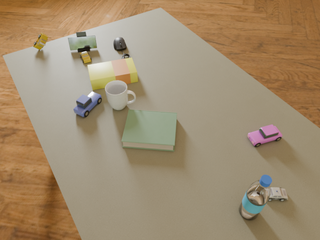book: (122, 110, 177, 151)
bottle: (239, 175, 272, 220)
box: (88, 58, 138, 90)
cup: (105, 80, 136, 110)
mouse: (114, 37, 126, 51)
phone: (68, 36, 97, 50)
toy_car: (248, 125, 282, 147), (74, 92, 102, 117), (268, 188, 288, 201), (33, 33, 48, 50), (80, 51, 91, 63)
